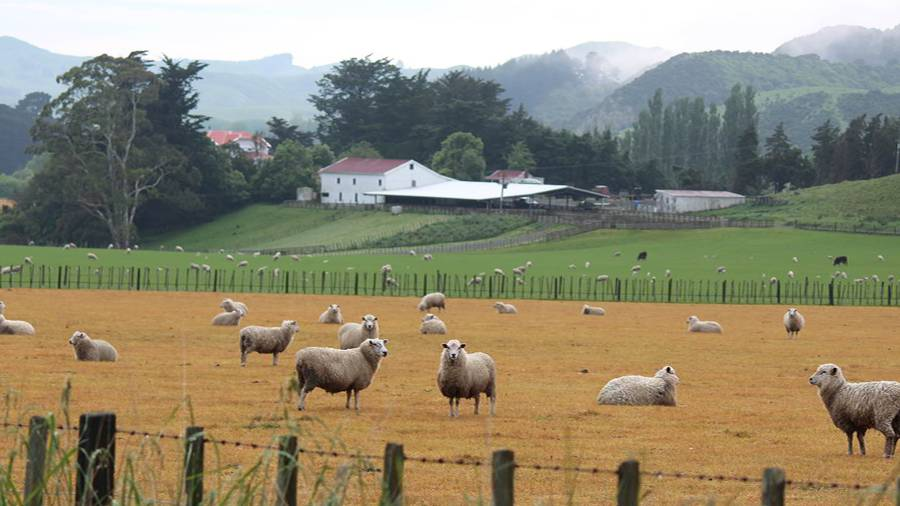sheep: (809, 360, 900, 460), (291, 336, 392, 410), (435, 340, 501, 419), (599, 362, 681, 404), (237, 318, 303, 367), (338, 313, 384, 355), (68, 328, 117, 366), (685, 315, 721, 335), (1, 313, 35, 334), (783, 307, 806, 337), (417, 292, 448, 313), (319, 302, 350, 322), (420, 313, 446, 336), (211, 309, 246, 326), (219, 298, 244, 317), (493, 300, 516, 315), (580, 304, 604, 317)
